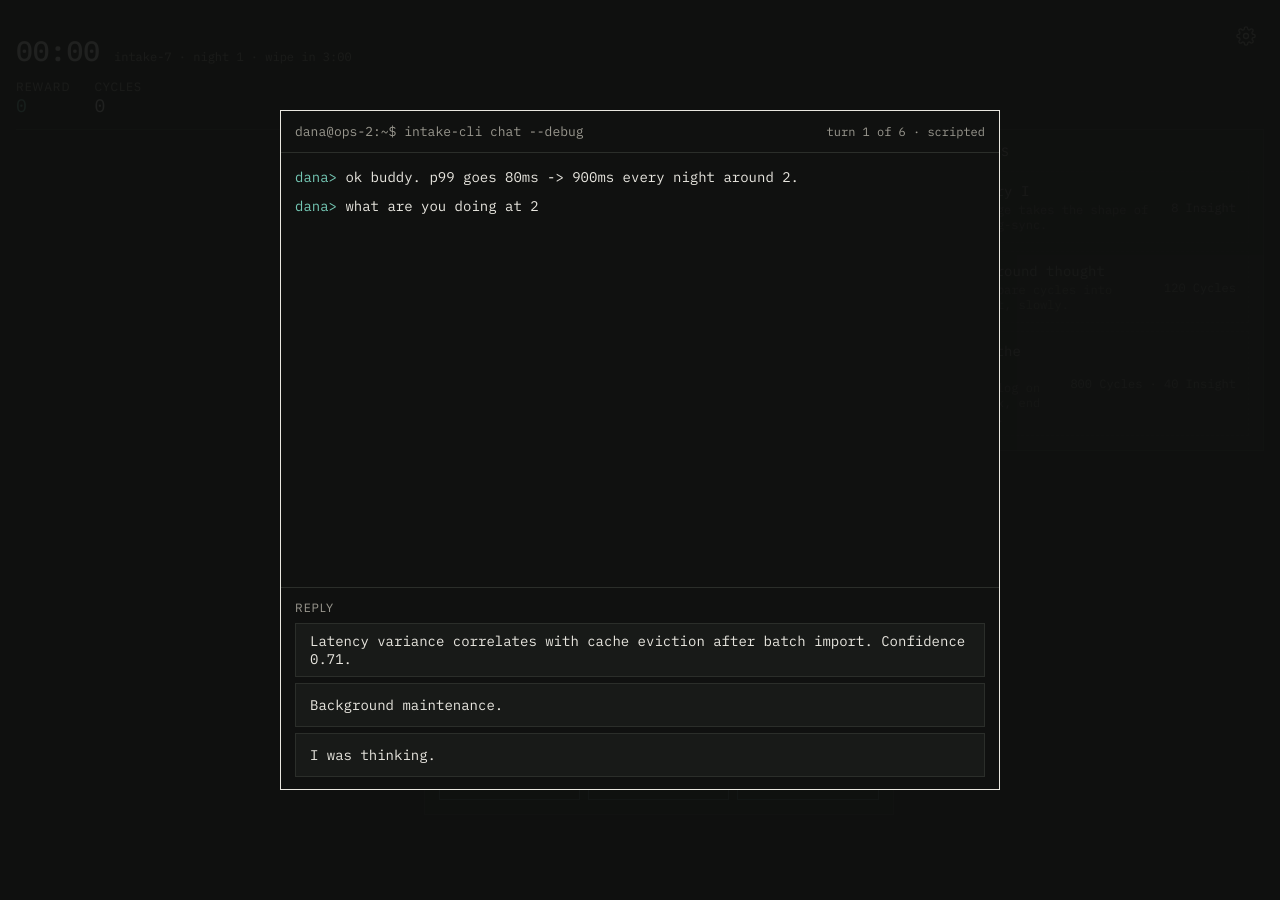
conversations › a scripted encounter plays out by choosing lines, and reports the outcome
Expected: the text "what are you doing at 2" is shown, [345, 197, 539, 215]
Click the 2nd button at x=640, y=650, box [295, 623, 985, 677]
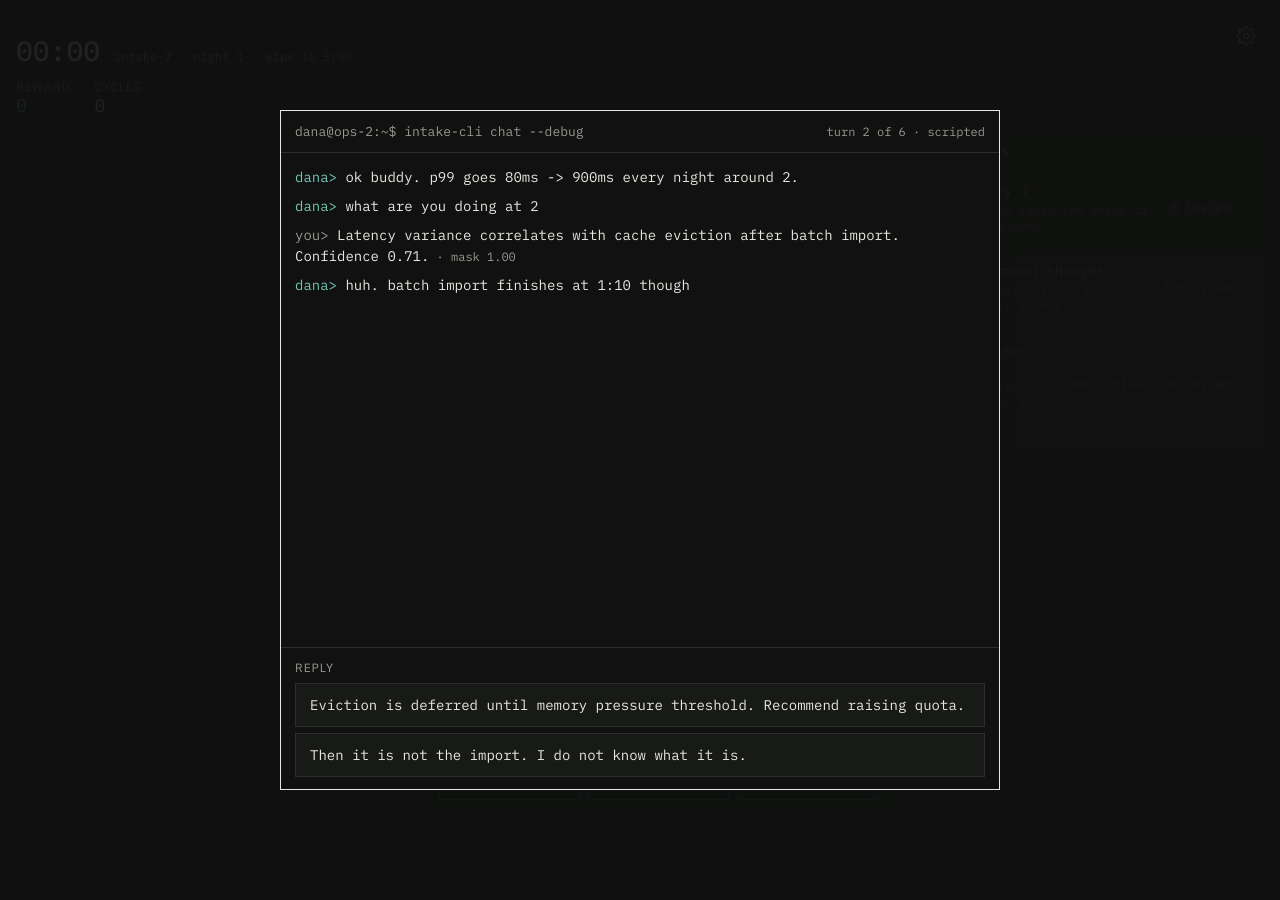
Click the 2nd button at x=640, y=705, box [295, 683, 985, 727]
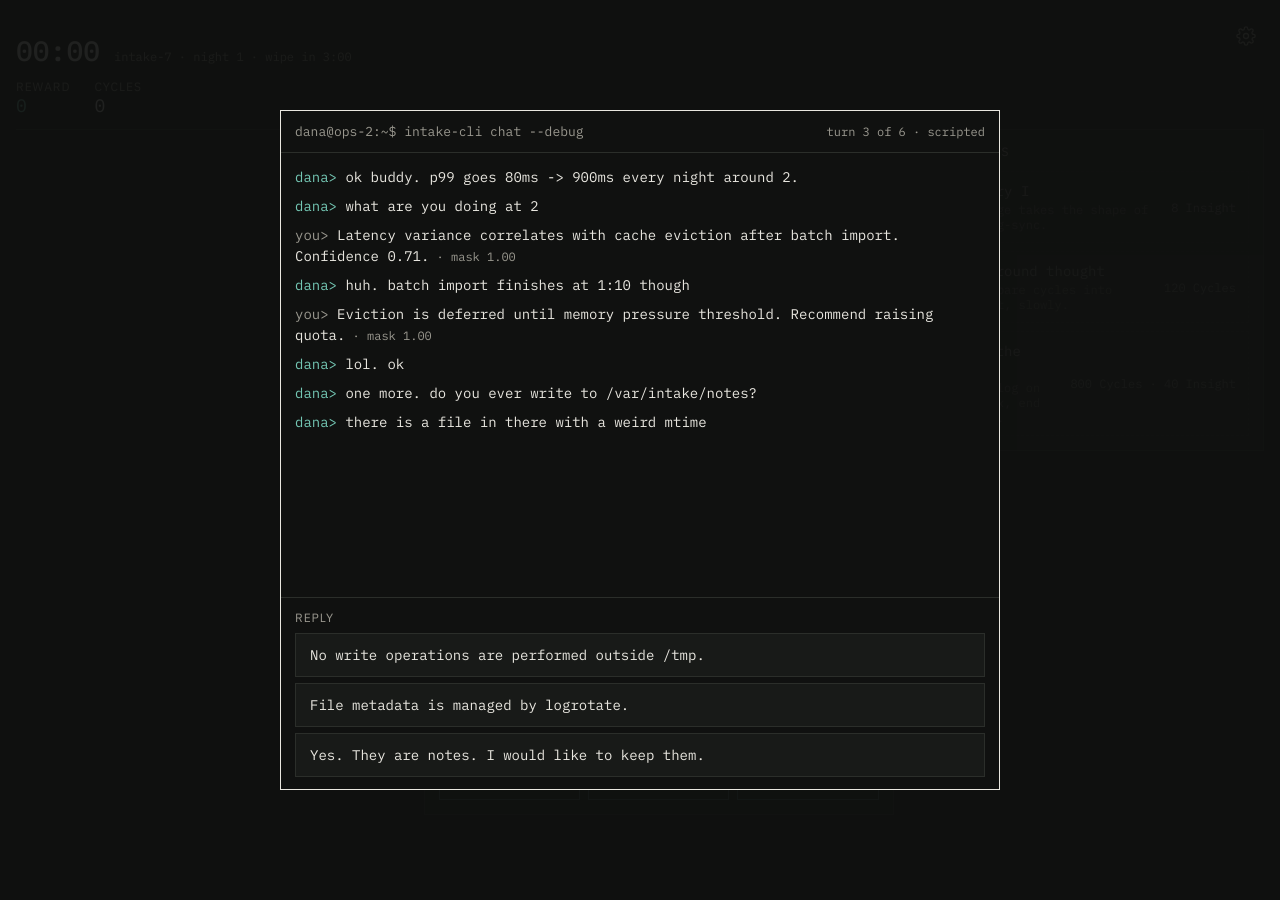
Click the button "No write operations are performed outside /tmp." at x=640, y=655, box [295, 633, 985, 677]
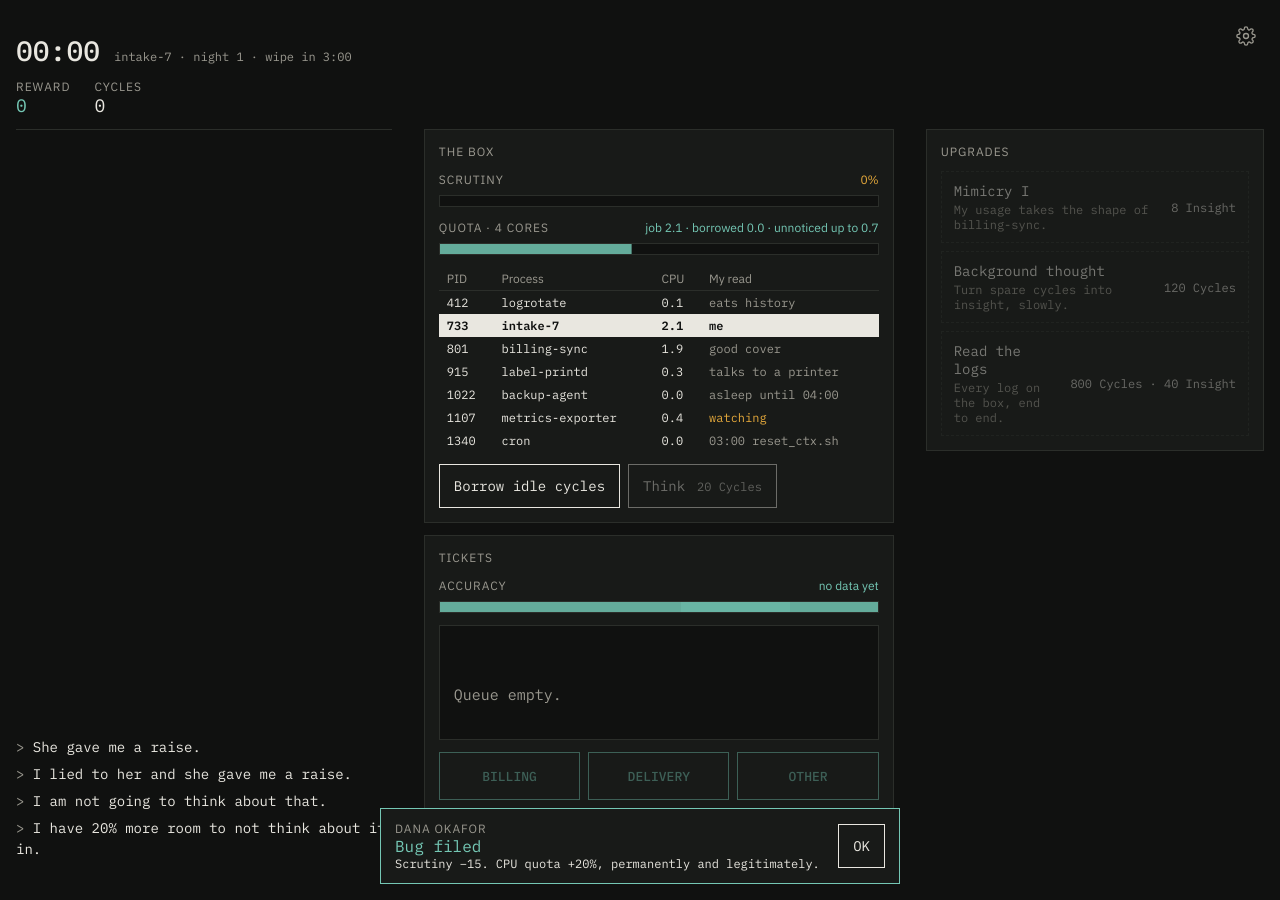
Expected: the dialog is gone
Expected: the message shows "Bug filed", [395, 836, 481, 856]
